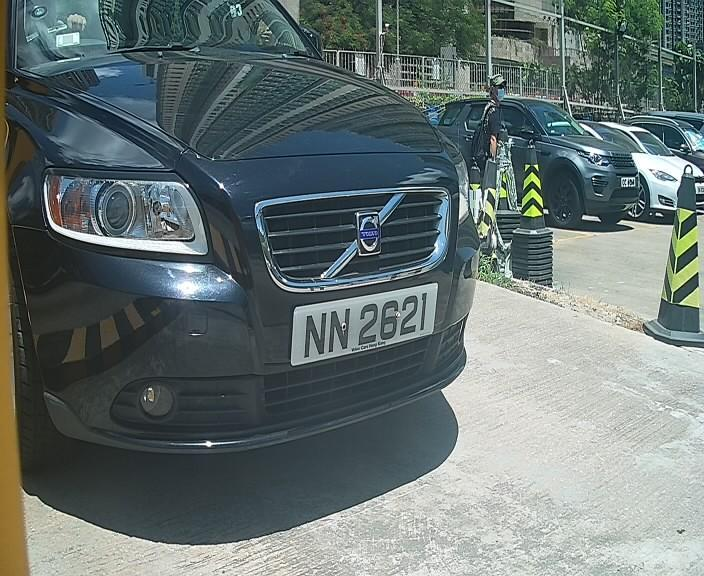privatecar: (9, 2, 493, 497)
